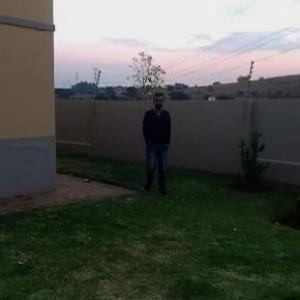follow: (136, 89, 172, 195)
